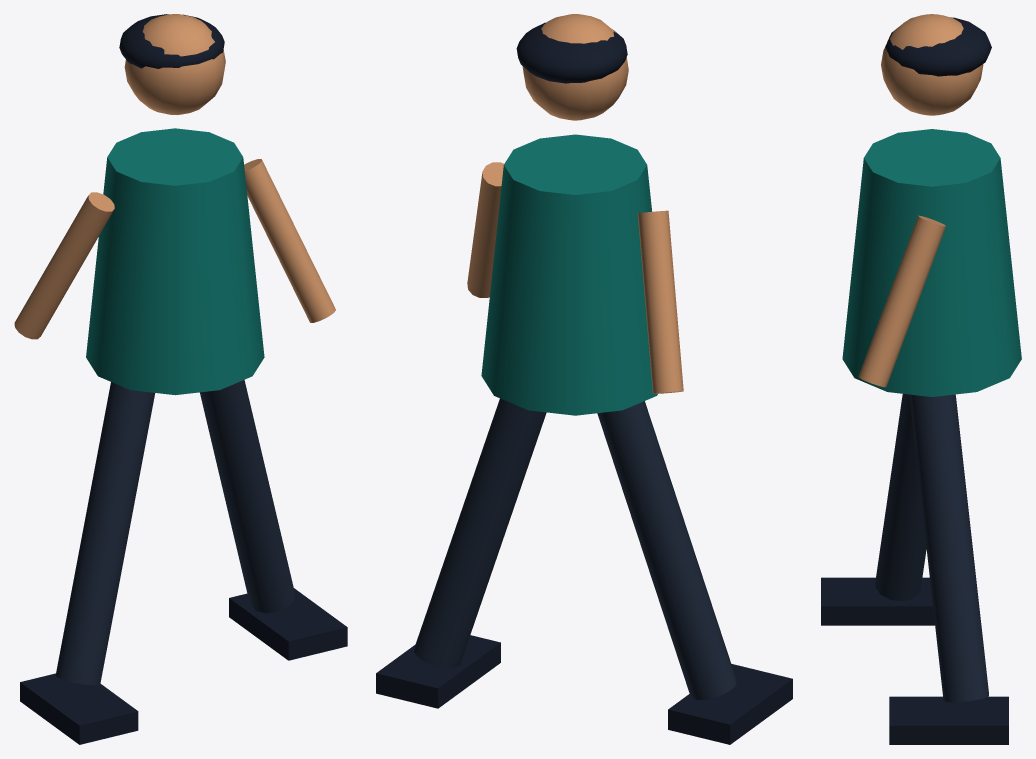
3 renders of one model, left to right at view 1: azimuth 30°, elevation 25°; view 2: azimuth 150°, elevation 25°; view 3: azimuth 270°, elevation 25°, orthographic. The views are drawn at different scales.
Parts seen in each view (by area): view 1: person-walking; view 2: person-walking; view 3: person-walking.
Part boxes in pixels (x1,y1,x2,y2): person-walking: (14,14,347,744); person-walking: (376,14,792,744); person-walking: (821,14,1021,744).
Bounding box in the file's own units: 0.8296 × 1.7 × 0.4755.
